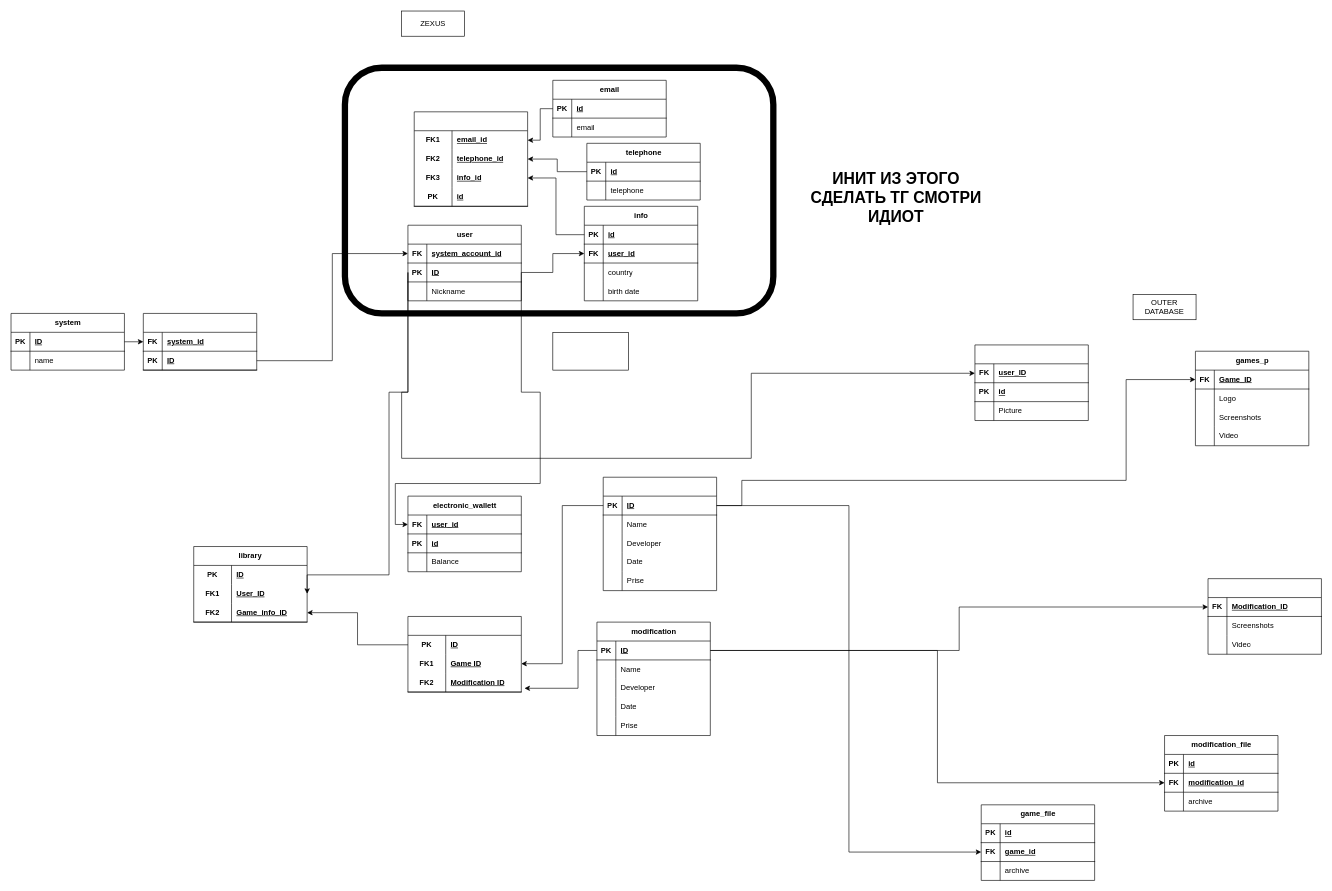
This 1332x891 diagram has some shape labels left out. The box of each missing label's shape, as (x1, y1, x2, y2) in pixels:
avatar: (974, 344, 1088, 421)
full_info: (414, 111, 528, 206)
game: (603, 477, 717, 591)
game_info: (407, 616, 521, 692)
modification_p: (1207, 578, 1321, 654)
system_account: (143, 313, 257, 370)
